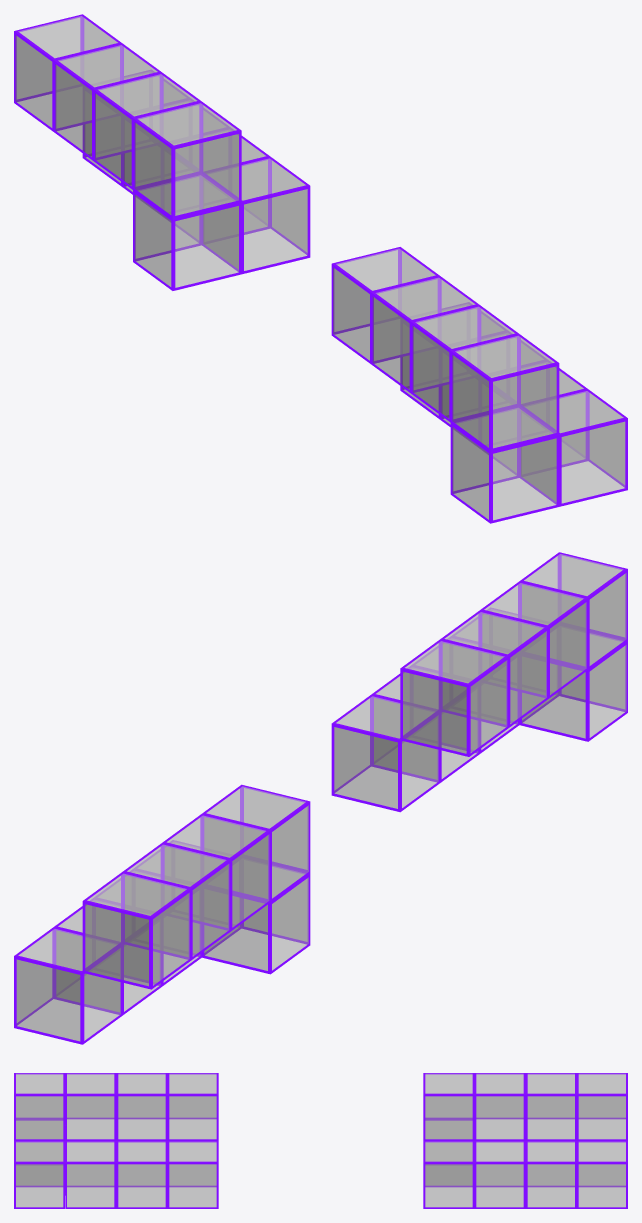
The model's file is (5)E Wall.fbx.
3 views of the same model, one above another, from view 1: azimuth 30°, elevation 25°; view 2: azimuth 150°, elevation 25°; view 3: azimuth 270°, elevation 25° (orthographic). The views are drawn at different scales.
Visible parts, largest first — view 1: Wall.002, Wall.013, Wall.001, Wall.012, Wall.010, Wall.005, Wall.015, Wall.014, Wall.008, Wall.006, Wall.017, Wall.019 (+6 smaller); view 2: Wall.019, Wall.010, Wall.020, Wall.008, Wall.011, Wall.006, Wall.013, Wall.015, Wall.002, Wall.017, Wall.012, Wall.001 (+4 smaller); view 3: Wall.006, Wall.007, Wall.008, Wall.009, Wall.010, Wall.011, Wall.013, Wall.014, Wall.015, Wall.016, Wall.017, Wall.018 (+6 smaller).
Part boxes in pixels (left/top/right/bottom): Wall.002: left=450, top=334, right=559, bottom=451; Wall.013: left=133, top=101, right=241, bottom=218; Wall.001: left=450, top=406, right=559, bottom=523; Wall.012: left=133, top=173, right=241, bottom=290; Wall.010: left=331, top=247, right=439, bottom=363; Wall.005: left=520, top=389, right=627, bottom=506; Wall.015: left=93, top=72, right=201, bottom=189; Wall.014: left=202, top=156, right=310, bottom=274; Wall.008: left=371, top=276, right=479, bottom=393; Wall.006: left=411, top=305, right=518, bottom=422; Wall.017: left=53, top=43, right=162, bottom=160; Wall.019: left=14, top=14, right=121, bottom=131; Wall.019: left=82, top=872, right=191, bottom=989; Wall.010: left=400, top=639, right=508, bottom=756; Wall.020: left=14, top=927, right=122, bottom=1044; Wall.008: left=440, top=610, right=548, bottom=727; Wall.011: left=331, top=694, right=439, bottom=812; Wall.006: left=479, top=581, right=588, bottom=698; Wall.013: left=202, top=784, right=310, bottom=901; Wall.015: left=162, top=814, right=270, bottom=930; Wall.002: left=520, top=552, right=627, bottom=669; Wall.017: left=122, top=843, right=230, bottom=960; Wall.012: left=202, top=864, right=310, bottom=974; Wall.001: left=519, top=631, right=627, bottom=741; Wall.006: left=65, top=1073, right=116, bottom=1140; Wall.007: left=65, top=1141, right=116, bottom=1208; Wall.008: left=116, top=1073, right=167, bottom=1140; Wall.009: left=116, top=1141, right=167, bottom=1208; Wall.010: left=167, top=1073, right=218, bottom=1140; Wall.011: left=167, top=1141, right=218, bottom=1208; Wall.013: left=423, top=1073, right=474, bottom=1140; Wall.014: left=423, top=1141, right=474, bottom=1208; Wall.015: left=474, top=1073, right=525, bottom=1140; Wall.016: left=474, top=1141, right=525, bottom=1208; Wall.017: left=525, top=1073, right=576, bottom=1140; Wall.018: left=525, top=1141, right=576, bottom=1208.
Size of the model in its own units: 400 by 400 by 2400.
